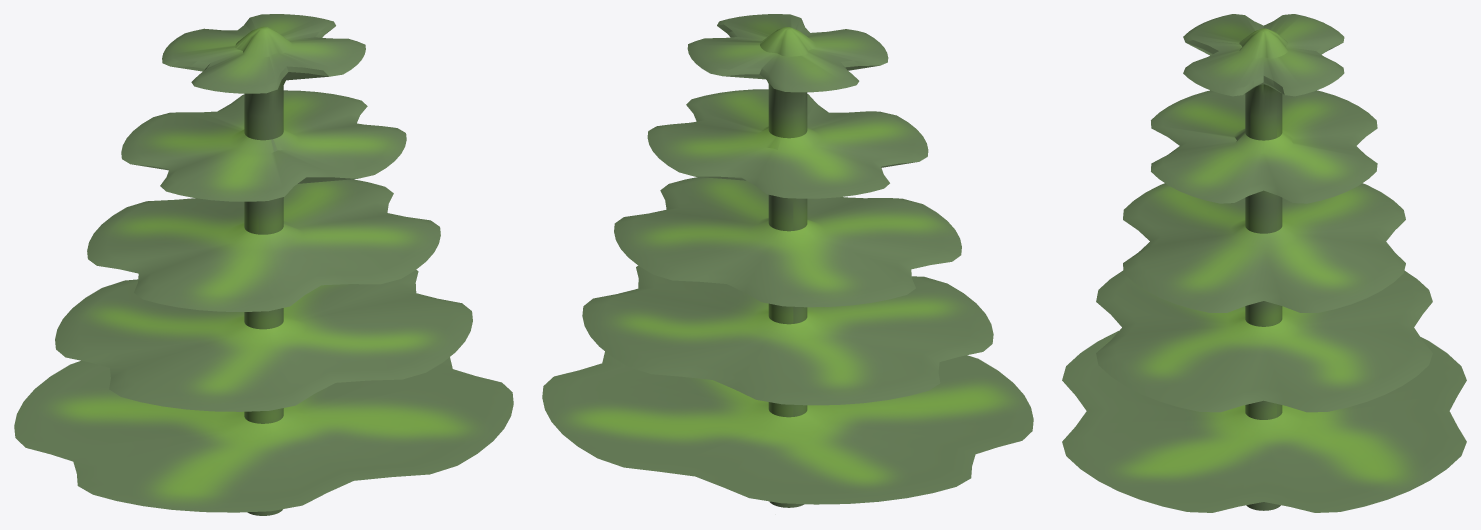
The model's file is planta 1.fbx.
The picture shows the model from 3 angles, left to right: view 1: azimuth 30°, elevation 25°; view 2: azimuth 150°, elevation 25°; view 3: azimuth 270°, elevation 25°; orthographic projection.
Visible parts, largest first — view 1: Mesh; view 2: Mesh; view 3: Mesh.
Boxes of the visible parts, left/top/right/bottom form: Mesh: left=14, top=14, right=513, bottom=515; Mesh: left=542, top=14, right=1033, bottom=507; Mesh: left=1062, top=14, right=1466, bottom=512.
Bounding box in the file's own units: 58.76 × 64.66 × 49.29.
